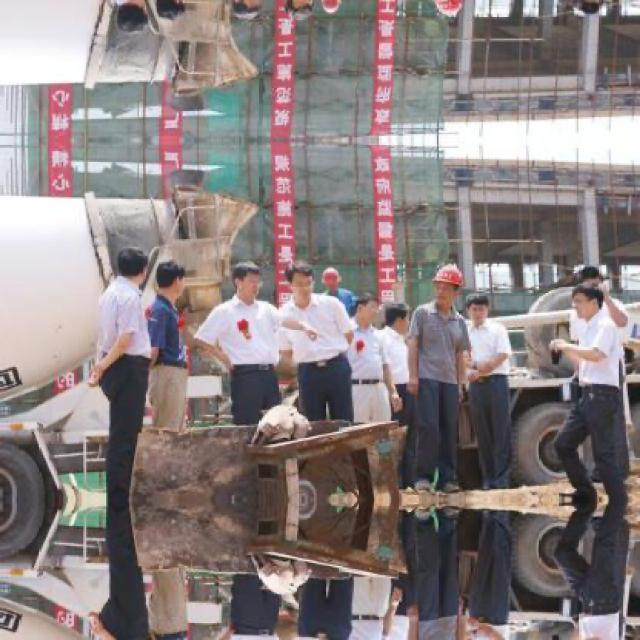con casco: (419, 246, 493, 326)
sin casco: (272, 253, 349, 323), (136, 248, 212, 316), (543, 276, 630, 333), (218, 249, 282, 318), (102, 234, 158, 300), (345, 284, 391, 343)
